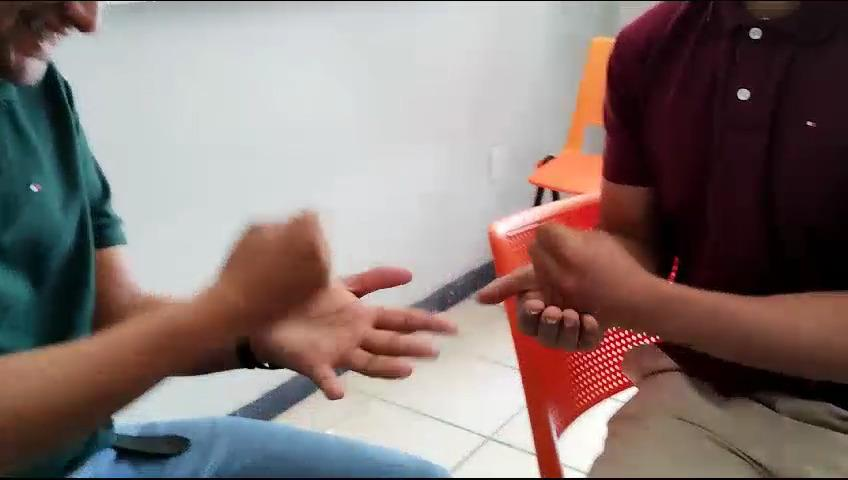Stone: (448, 179, 670, 349), (184, 197, 365, 369)
